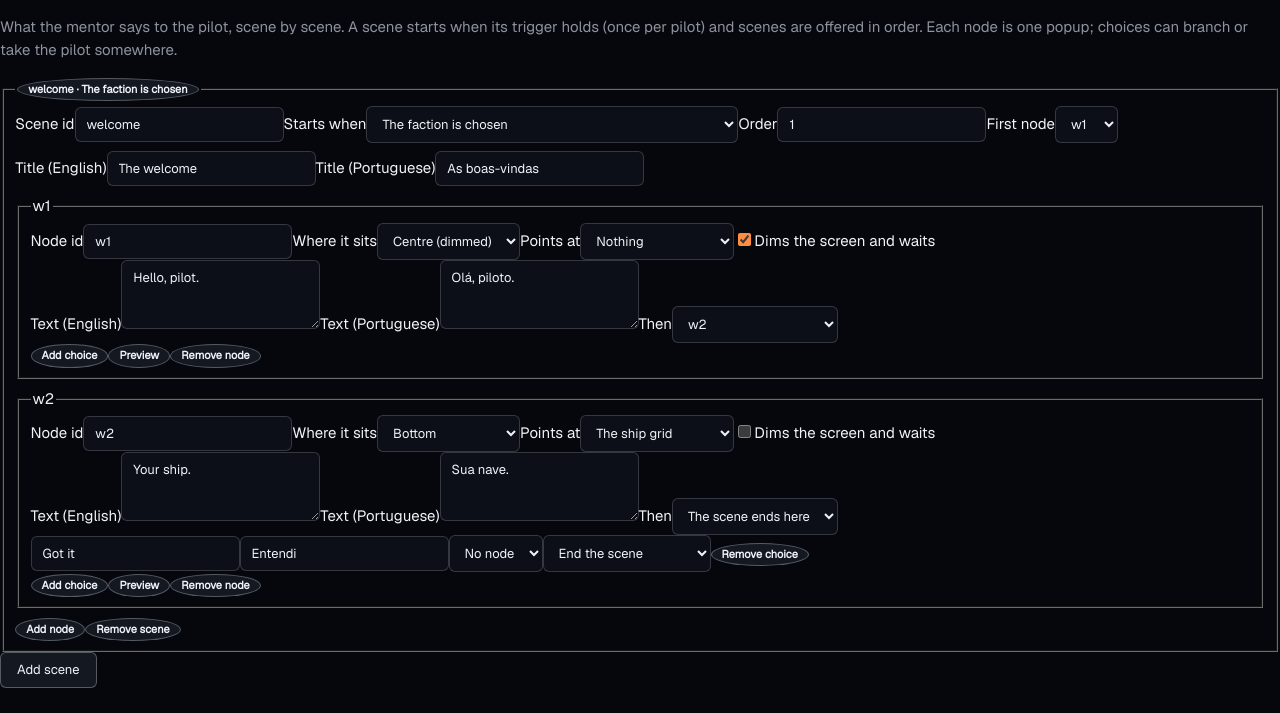
Admin scene editor › previews a node the way the pilot sees it
Click the button "Preview" below "w1": click(139, 356) top-left (108, 344), bottom-right (170, 368)
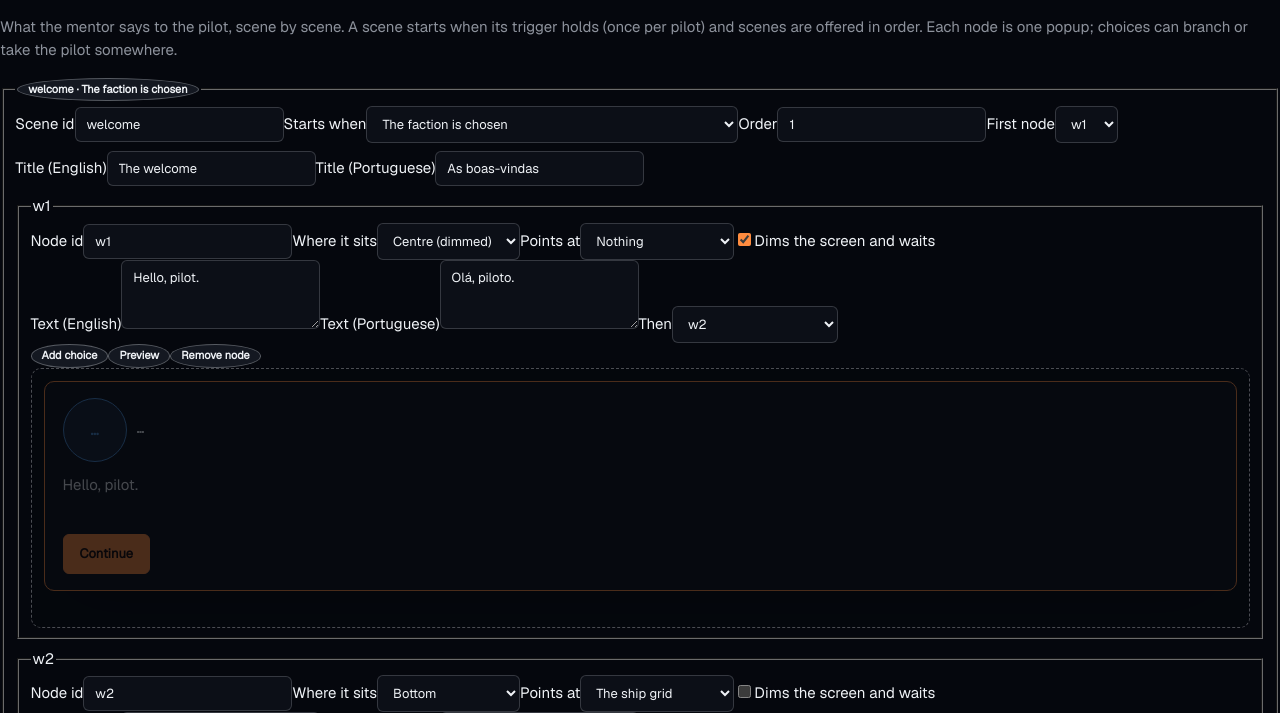
Expected: the dialog shows "Hello, pilot.", top-left (62, 474), bottom-right (138, 494)
